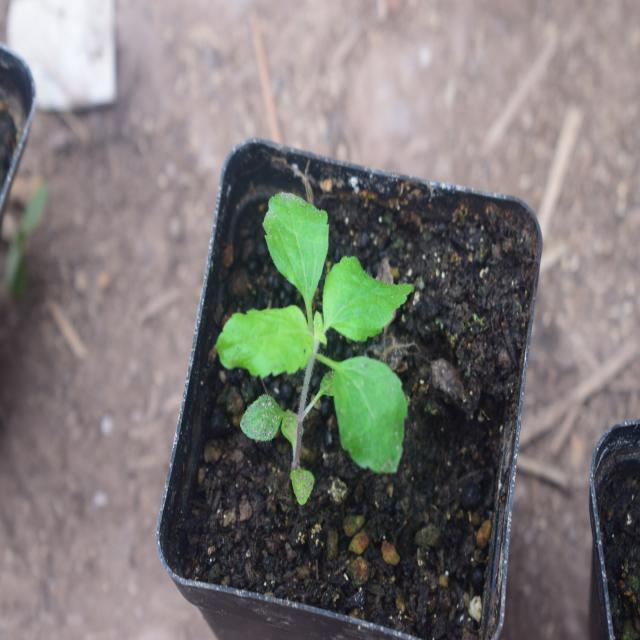billygoat_weed: (210, 187, 411, 503)
